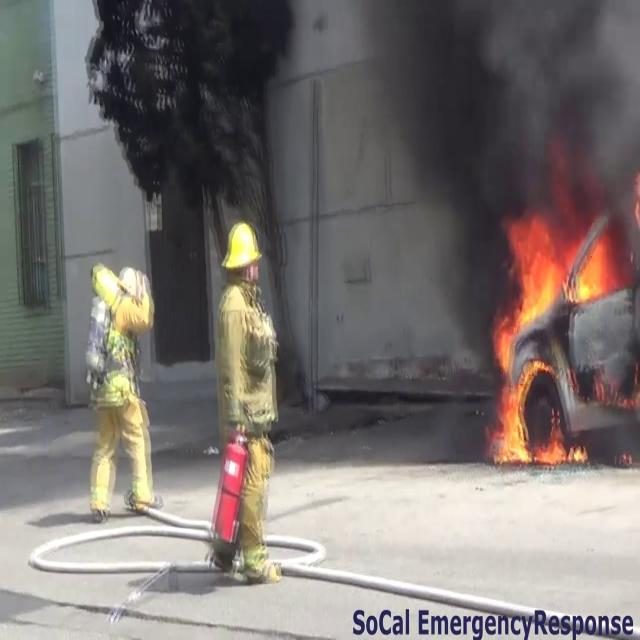Fire: (485, 206, 617, 471)
Smoke: (312, 0, 640, 284)
